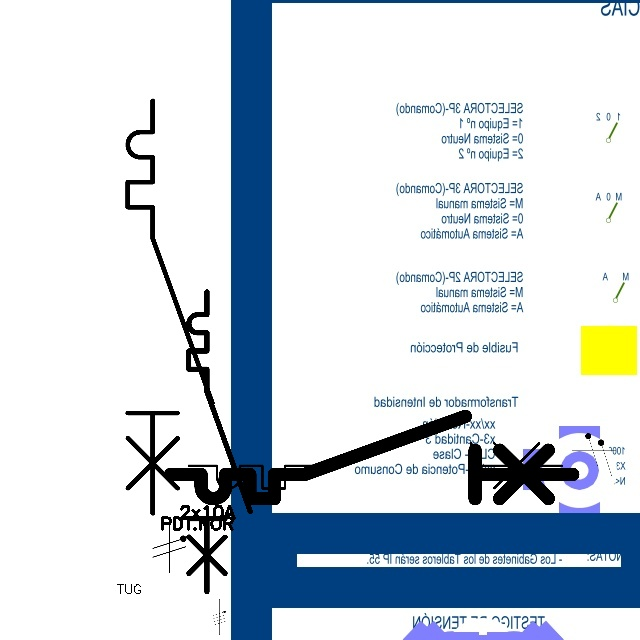interruptor_termomagnetico: (117, 90, 223, 523), (160, 406, 583, 509), (179, 402, 572, 498), (181, 284, 258, 599)
